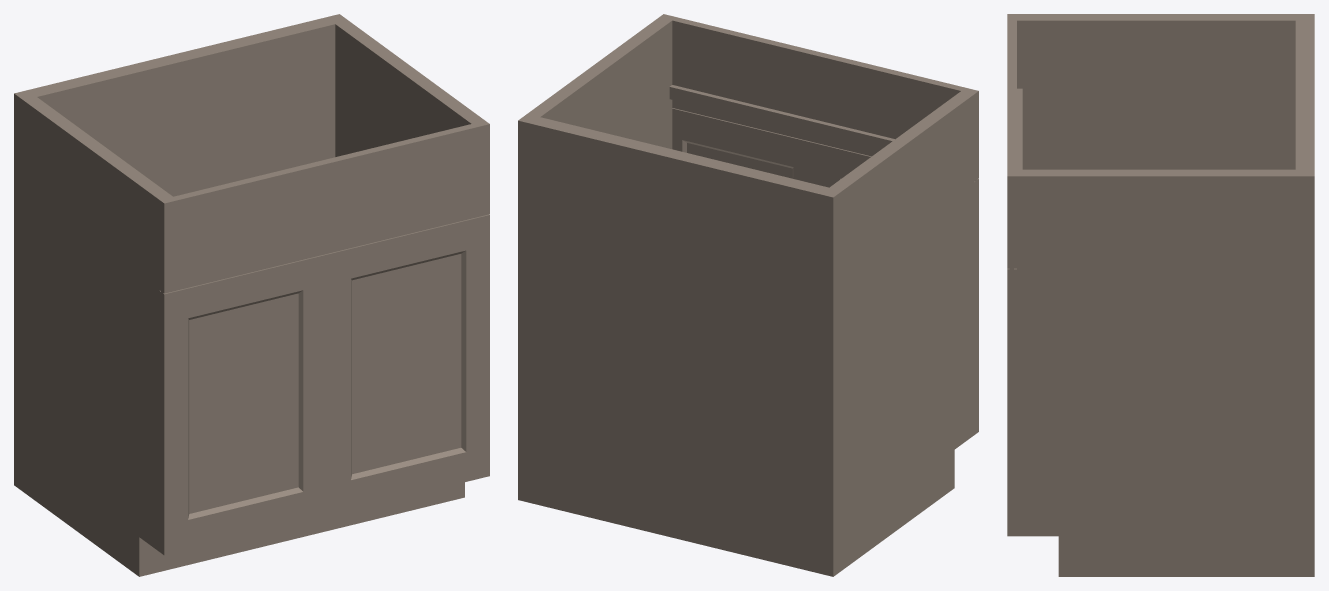
The model's file is Sink-Base-Cabinet-Double-Door-False-Drawer_std_001_W30in.glb.
The picture shows the model from 3 angles, left to right: view 1: azimuth 30°, elevation 25°; view 2: azimuth 150°, elevation 25°; view 3: azimuth 270°, elevation 25°; orthographic projection. The views are drawn at different scales.
Visible parts, largest first — view 1: Sink-Base-Cabinet-Double-Door-False-Drawer.std.001_W30in; view 2: Sink-Base-Cabinet-Double-Door-False-Drawer.std.001_W30in; view 3: Sink-Base-Cabinet-Double-Door-False-Drawer.std.001_W30in.
Part boxes in pixels (x1,y1,x2,y2): Sink-Base-Cabinet-Double-Door-False-Drawer.std.001_W30in: (14,14,489,576); Sink-Base-Cabinet-Double-Door-False-Drawer.std.001_W30in: (518,14,978,576); Sink-Base-Cabinet-Double-Door-False-Drawer.std.001_W30in: (1007,14,1314,576).
Size of the model in its own units: 0.762 by 0.8763 by 0.6096.
